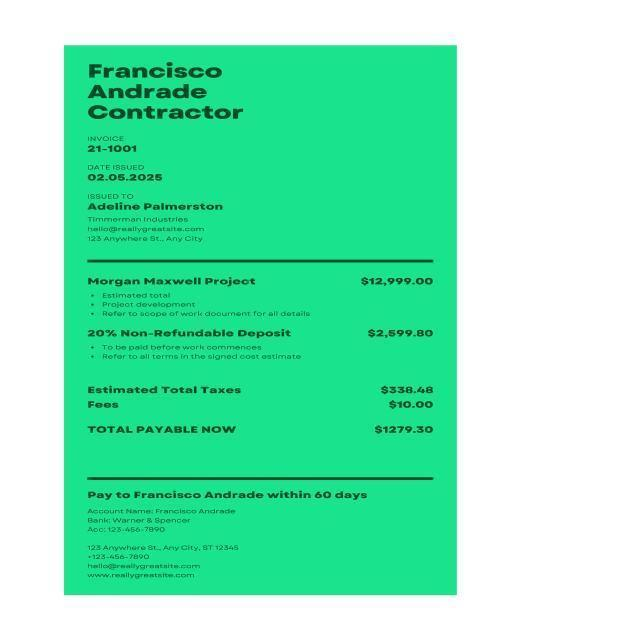ROI: (83, 270, 441, 367), (83, 379, 445, 451), (81, 57, 259, 125), (83, 190, 228, 250), (86, 541, 241, 582), (84, 507, 241, 537), (83, 487, 369, 503), (86, 160, 164, 187), (83, 133, 152, 155)
